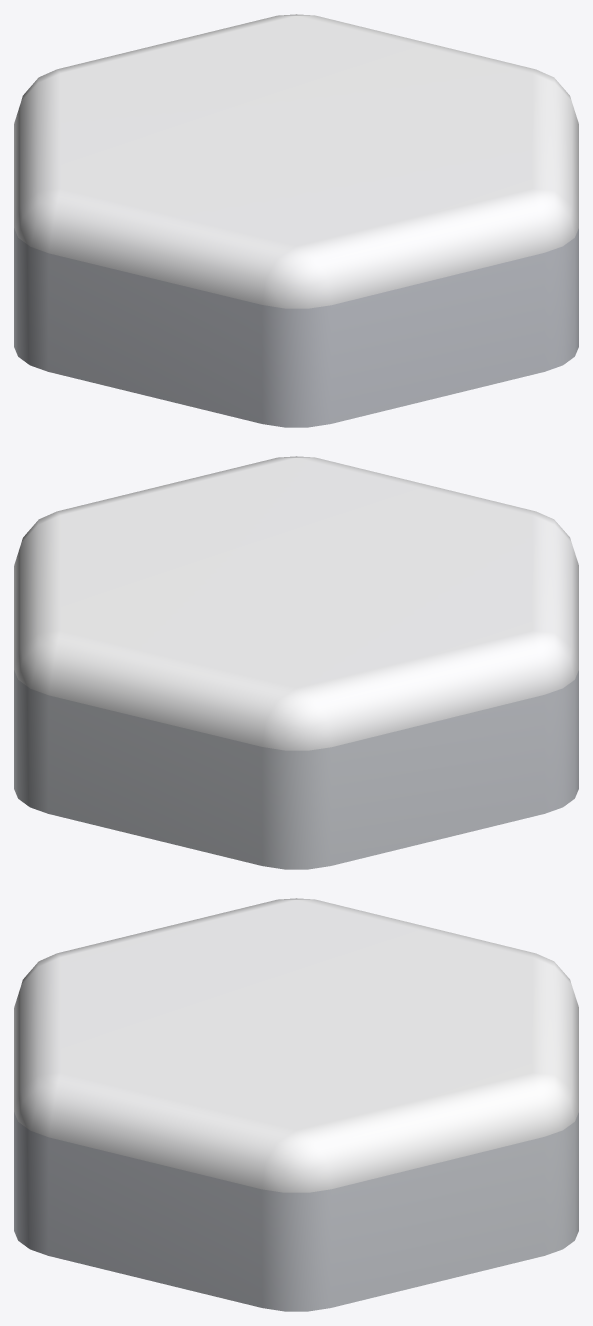
Rendered from Hexa.fbx.
3 renders of one model, top to bottom at view 1: azimuth 30°, elevation 25°; view 2: azimuth 150°, elevation 25°; view 3: azimuth 270°, elevation 25°, orthographic.
Visible parts, largest first — view 1: Hexa_Platform; view 2: Hexa_Platform; view 3: Hexa_Platform.
Boxes of the visible parts, <box> form: Hexa_Platform: <box>14,14,578,427</box>; Hexa_Platform: <box>14,456,578,869</box>; Hexa_Platform: <box>14,898,578,1311</box>.
Size of the model in its own units: 1.92 by 0.5497 by 1.72.
Materials: 1 (1 with a texture image).
